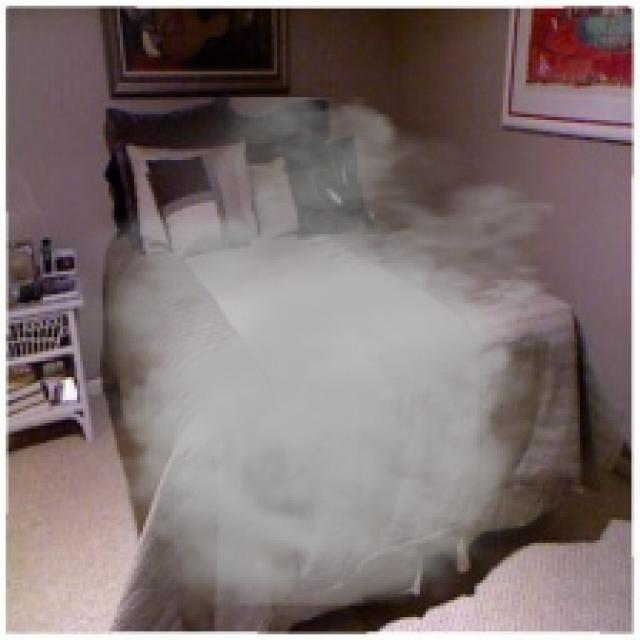smoke: (69, 97, 608, 637)
